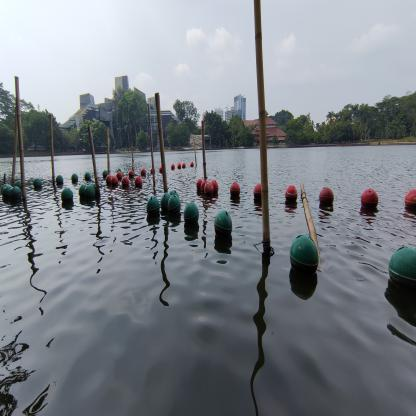green_buoy: (288, 233, 320, 281), (387, 243, 415, 293), (213, 209, 233, 240), (183, 201, 200, 226), (167, 194, 181, 216), (146, 195, 160, 216), (61, 187, 74, 204), (160, 192, 171, 211), (9, 186, 22, 202), (84, 184, 96, 201), (1, 185, 12, 199), (78, 183, 87, 199), (33, 177, 43, 190), (169, 190, 180, 200), (55, 174, 64, 184), (89, 182, 97, 193), (14, 180, 22, 190), (71, 172, 78, 183), (84, 171, 91, 181), (102, 169, 108, 178), (116, 168, 121, 173)
red_buoy: (360, 187, 379, 209), (319, 186, 334, 207), (404, 188, 415, 213), (285, 184, 298, 204), (230, 181, 240, 199), (253, 182, 262, 200), (204, 181, 214, 196), (210, 179, 219, 195), (200, 178, 208, 194), (121, 176, 130, 188), (134, 175, 143, 187), (196, 177, 203, 191), (110, 176, 119, 186), (106, 174, 113, 185), (128, 169, 134, 178), (116, 172, 122, 180), (150, 167, 156, 174), (140, 168, 146, 175), (177, 162, 182, 170), (190, 161, 194, 168), (182, 162, 186, 169), (171, 164, 175, 171), (159, 165, 163, 172)
